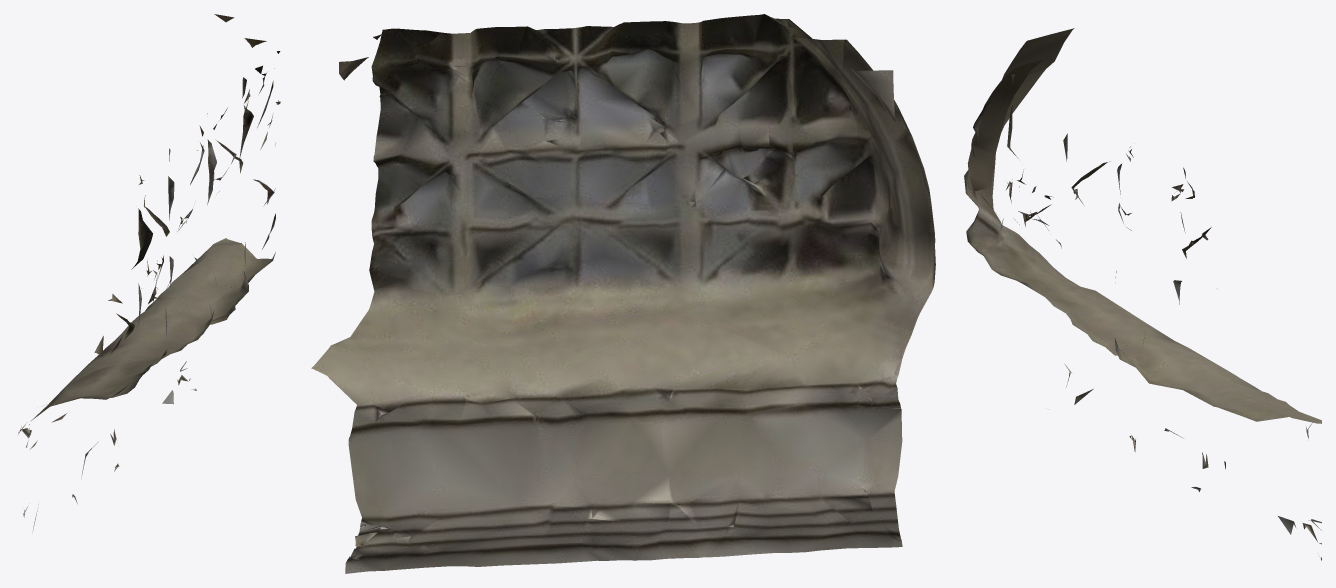
3 renders of one model, left to right at view 1: azimuth 30°, elevation 25°; view 2: azimuth 150°, elevation 25°; view 3: azimuth 270°, elevation 25°, orthographic. The views are drawn at different scales.
Bounding box in the file's own units: 2.11 × 2.3 × 1.85.
1 material, 1 textured.
